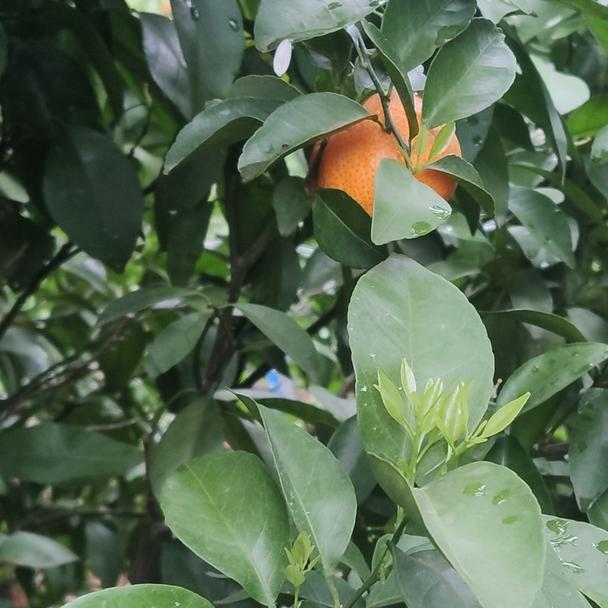shoot: (432, 385, 531, 470), (388, 369, 441, 476)
